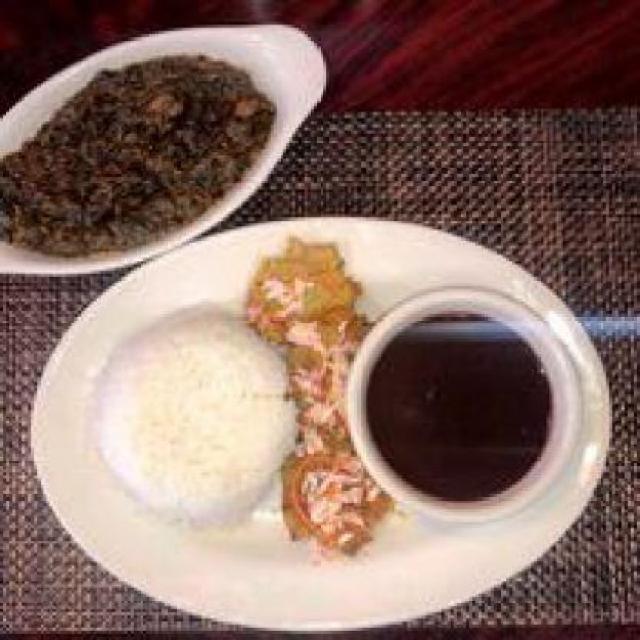fried rice: (84, 304, 282, 528)
molokhia: (357, 282, 563, 516)
